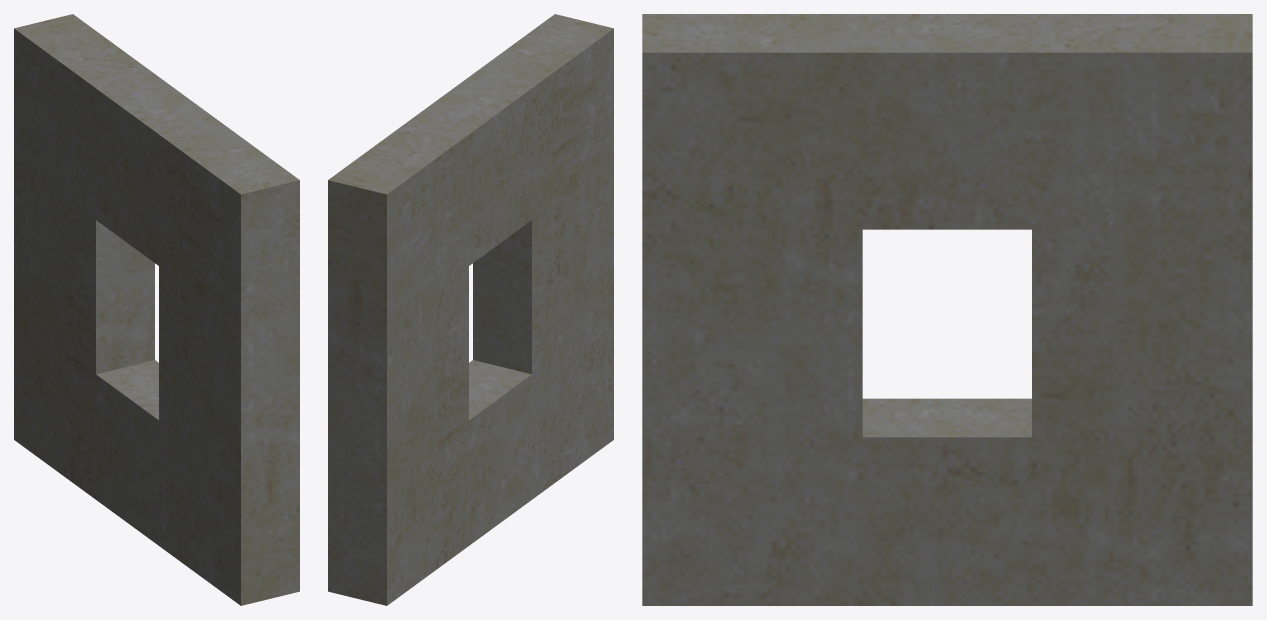
Rendered from mWallWindowConcrete01.obj.
3 renders of one model, left to right at view 1: azimuth 30°, elevation 25°; view 2: azimuth 150°, elevation 25°; view 3: azimuth 270°, elevation 25°, orthographic. The views are drawn at different scales.
Visible parts, largest first — view 1: WallWindowConcrete01; view 2: WallWindowConcrete01; view 3: WallWindowConcrete01.
Part boxes in pixels (x1=…): WallWindowConcrete01: x1=14, y1=14, x2=299, y2=605; WallWindowConcrete01: x1=328, y1=14, x2=613, y2=605; WallWindowConcrete01: x1=642, y1=14, x2=1252, y2=605.
Bounding box in the file's own units: 0.6 × 4 × 4.
